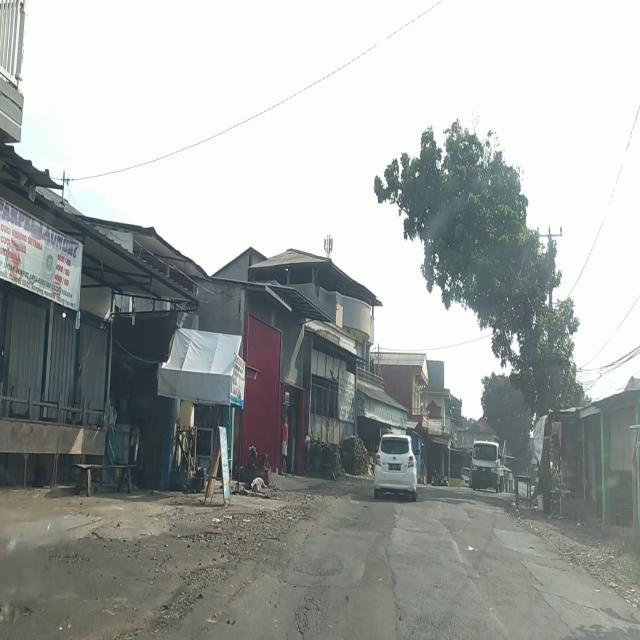Drain Hole: (290, 588, 324, 640)
